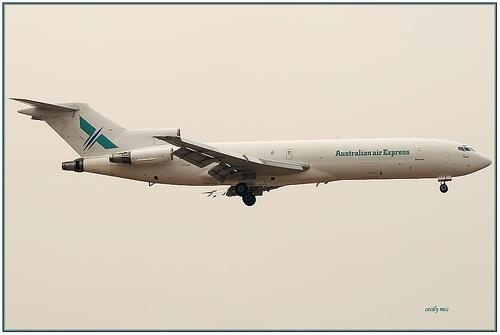aeroplane: (9, 97, 493, 206)
